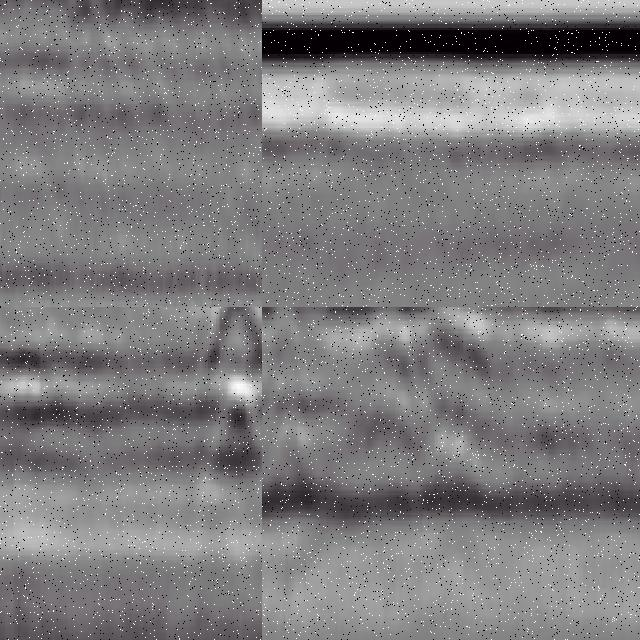crack: (203, 308, 263, 545)
loose: (263, 308, 502, 527)
